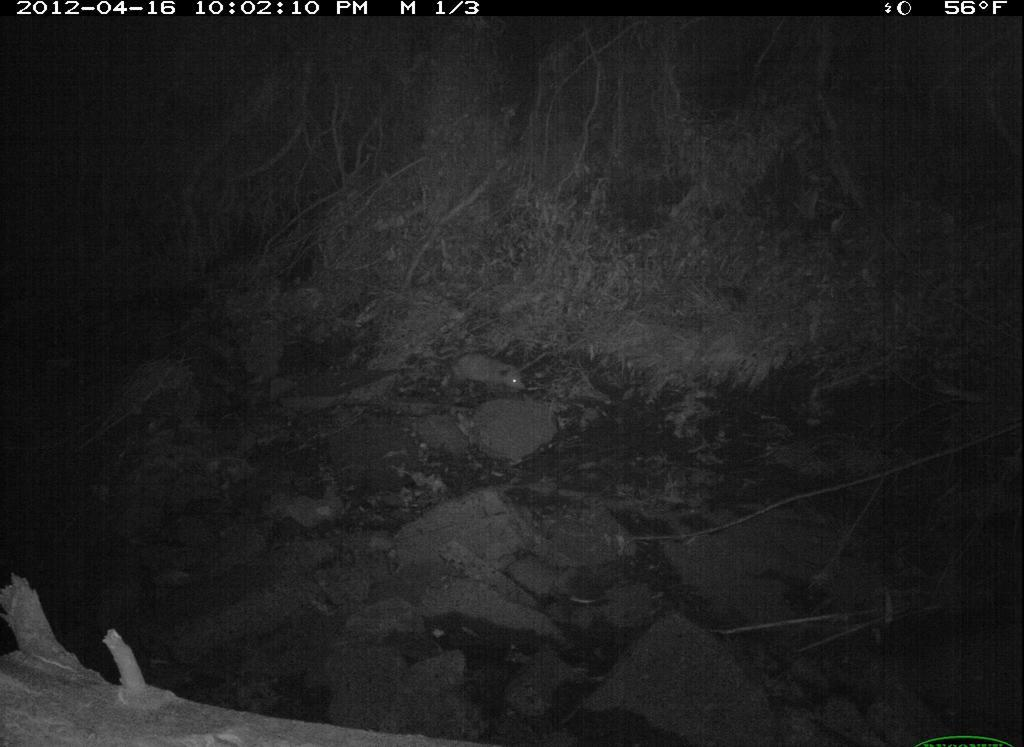opossum: (420, 345, 553, 408)
